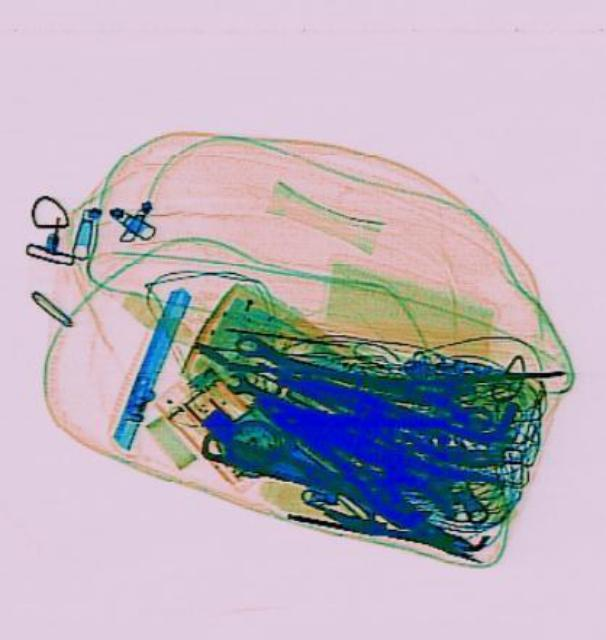Pliers: (304, 450, 485, 580)
Wrench: (191, 414, 441, 534), (222, 368, 279, 408)
